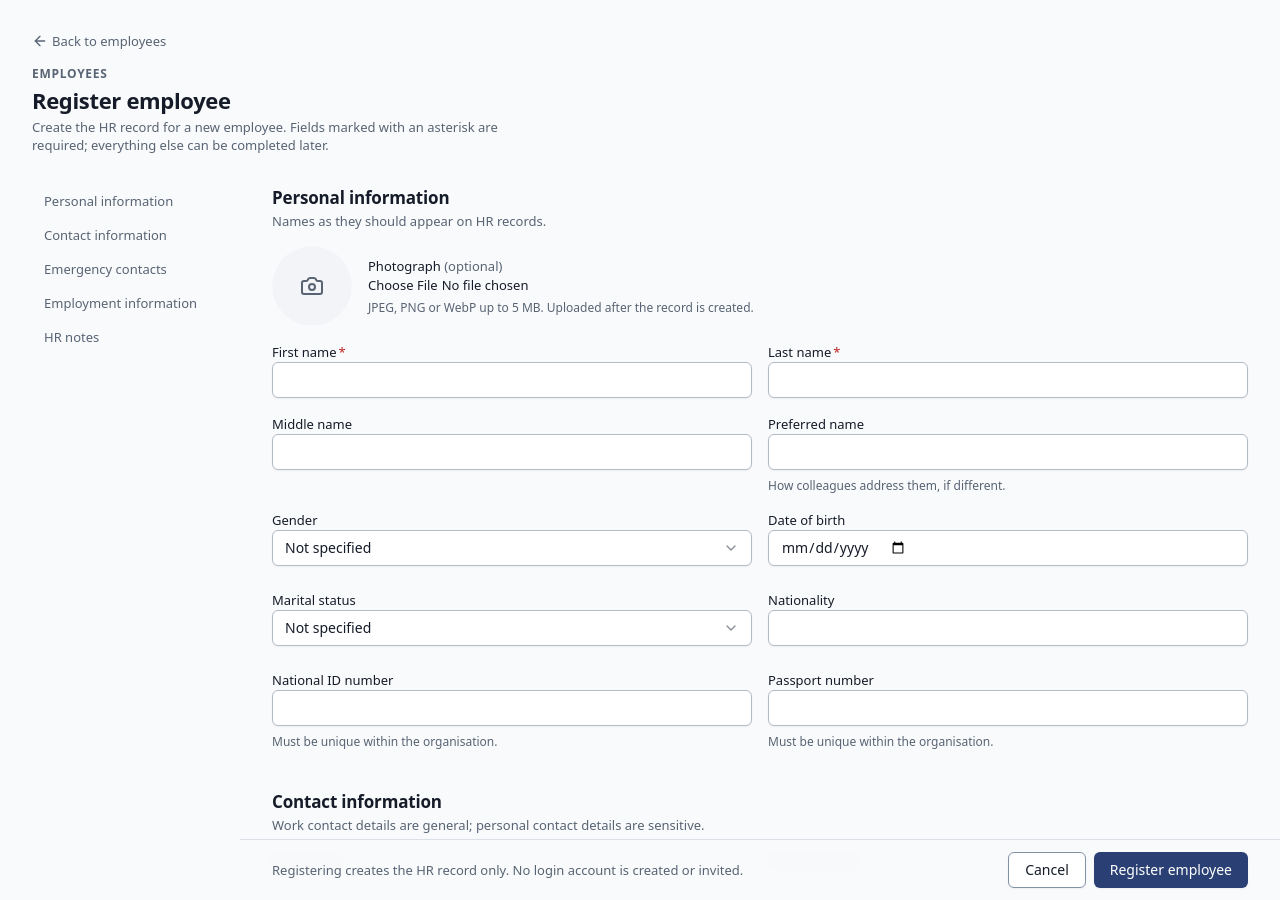
Test: Register employee page › explains a refused sensitive write field by field, and a plain 400 as a form-level error
Type "Ada" into the field with test id "input-employee-first-name" at (512,380), box x1=272 y1=362 x2=752 y2=398
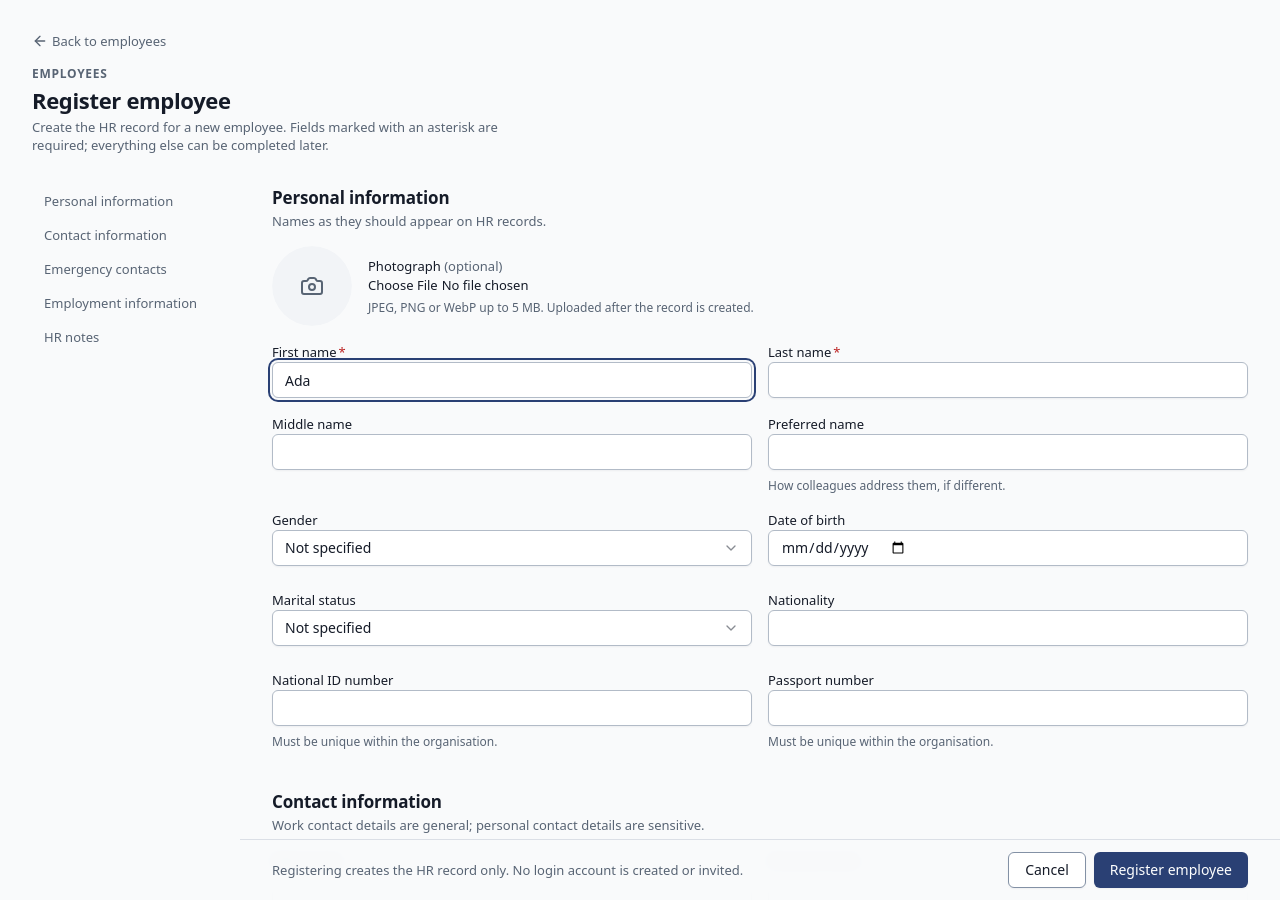
Type "Lovelace" into the field with test id "input-employee-last-name" at (1008,380), box x1=768 y1=362 x2=1248 y2=398
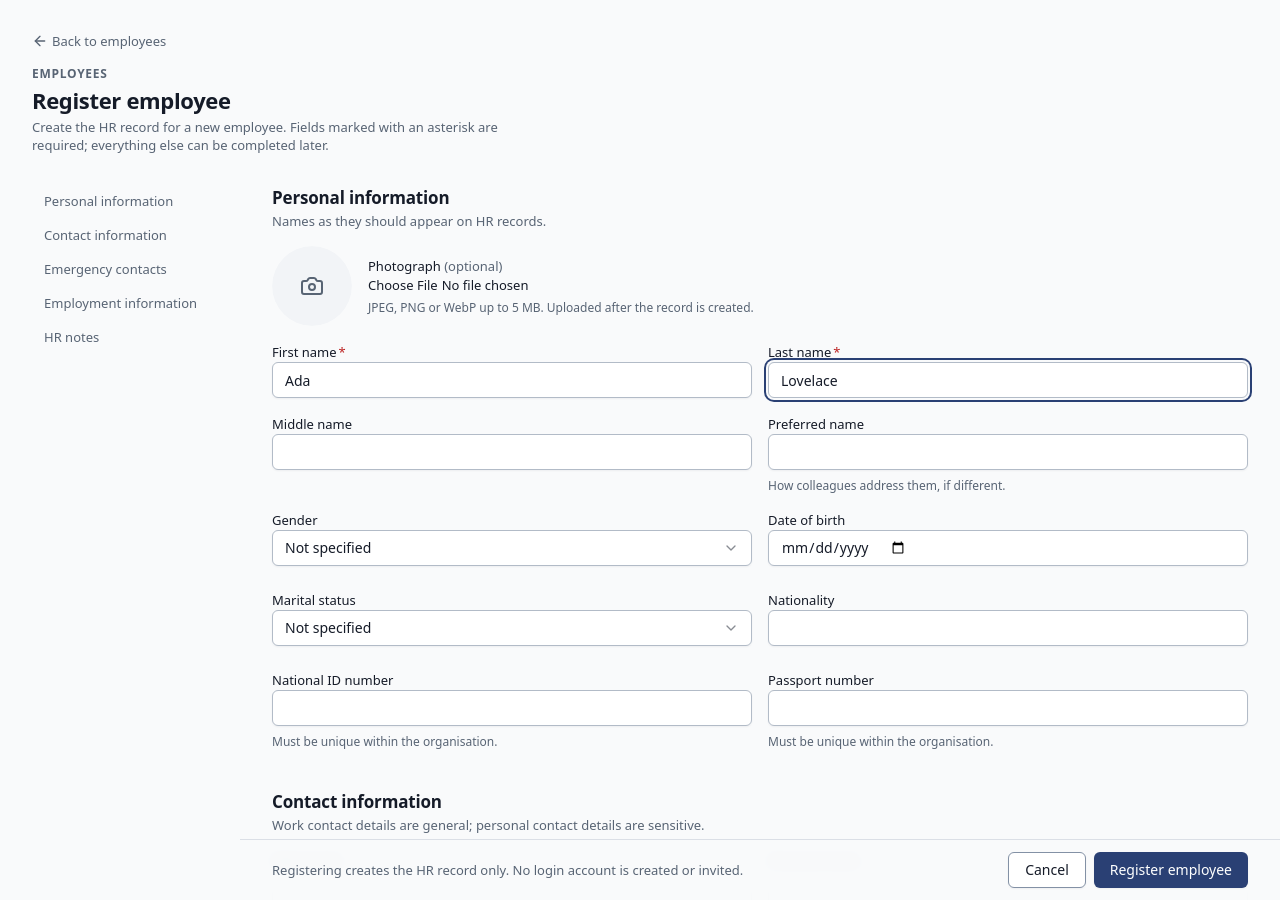
Click the button with test id "button-submit-employee" at (1171,870), box x1=1094 y1=852 x2=1248 y2=888
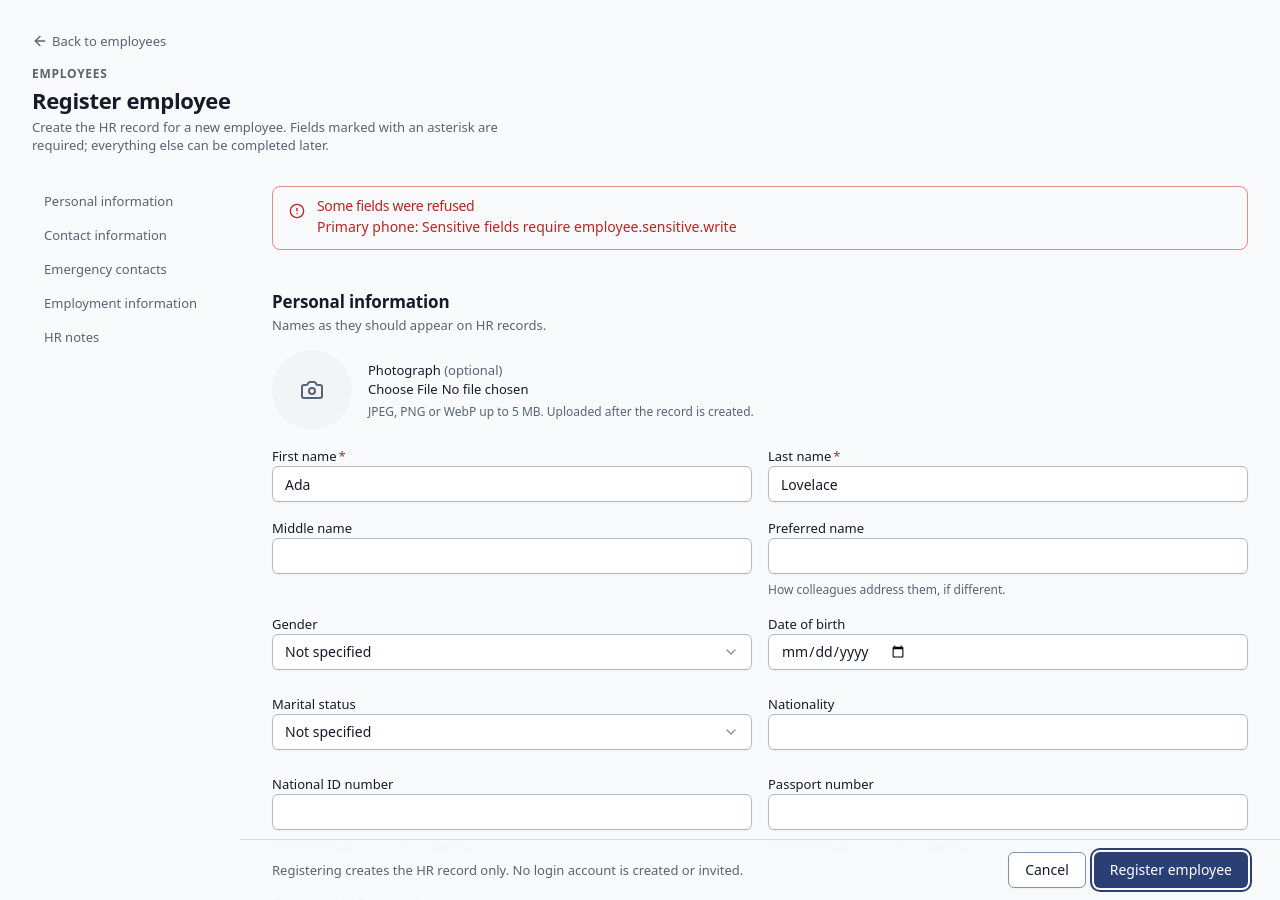
Expected: the message with test id "alert-employee-form-error" shows "Primary phone", x1=317 y1=217 x2=736 y2=236
Click the button with test id "button-submit-employee" at (1171,870), box x1=1094 y1=852 x2=1248 y2=888
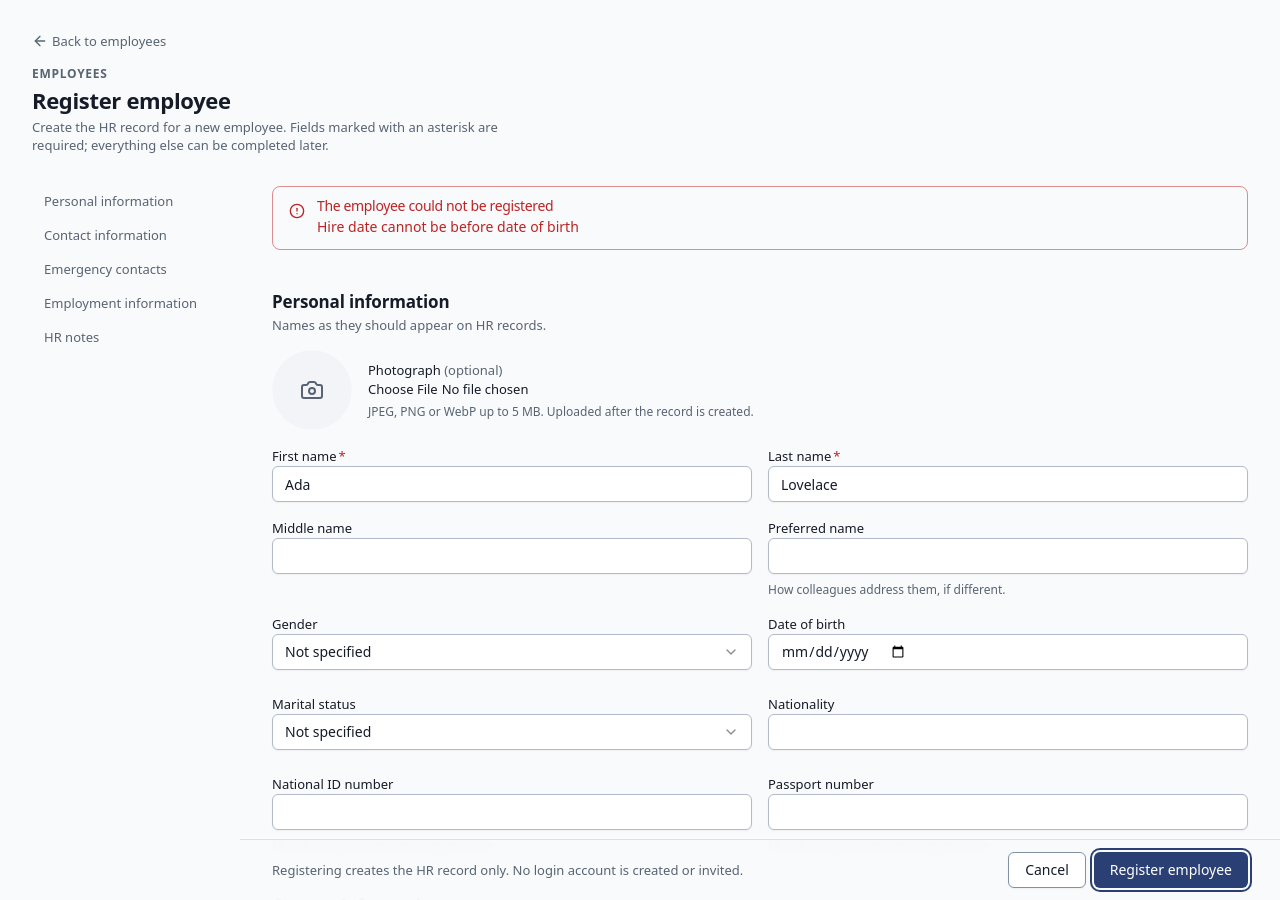
Expected: the text "Hire date cannot be before date of birth" is shown, x1=317 y1=217 x2=579 y2=236
